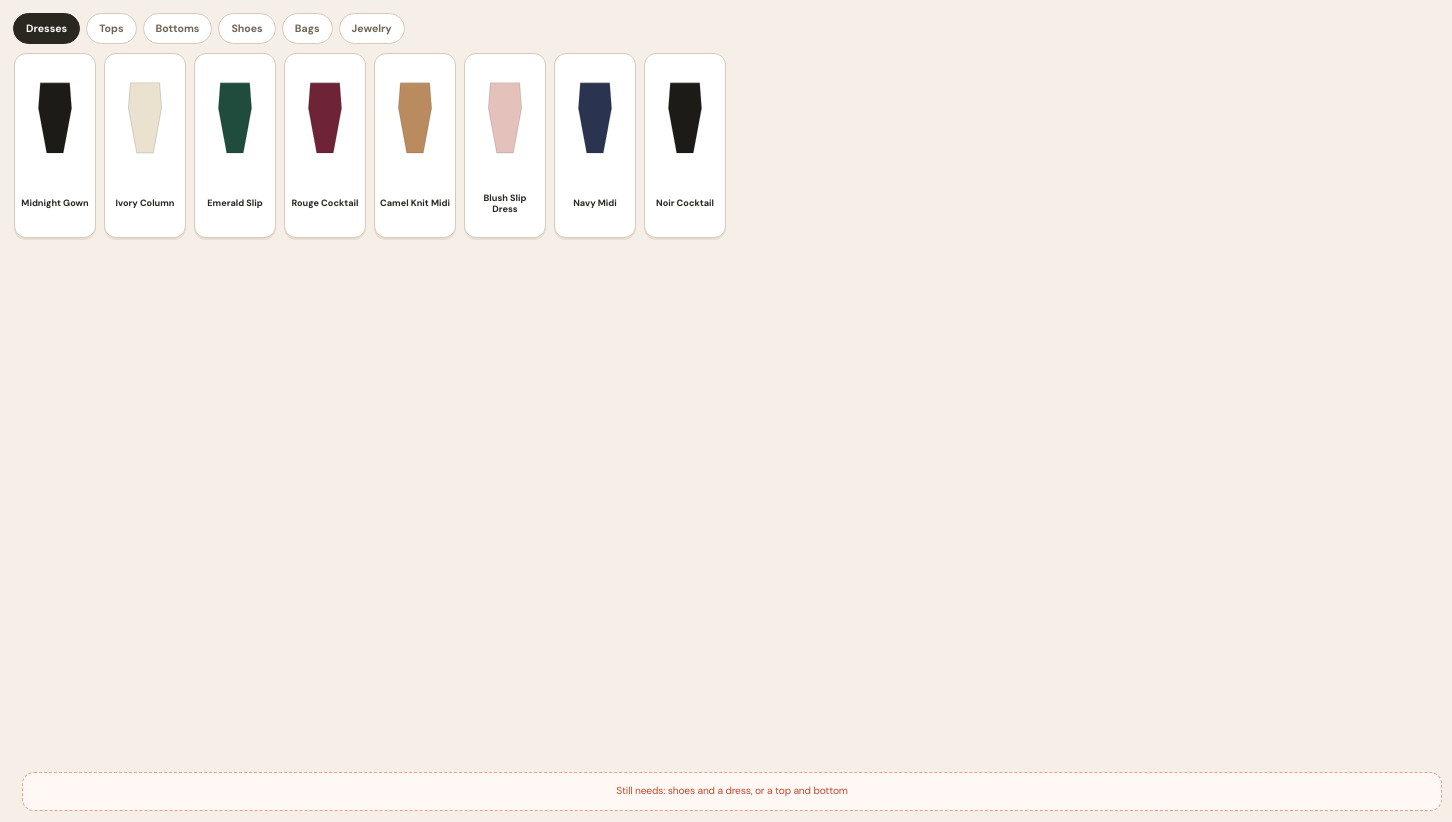
Test: Closet › switches slots on tab click
Click the button "Shoes": (247, 28) [218, 13, 276, 44]
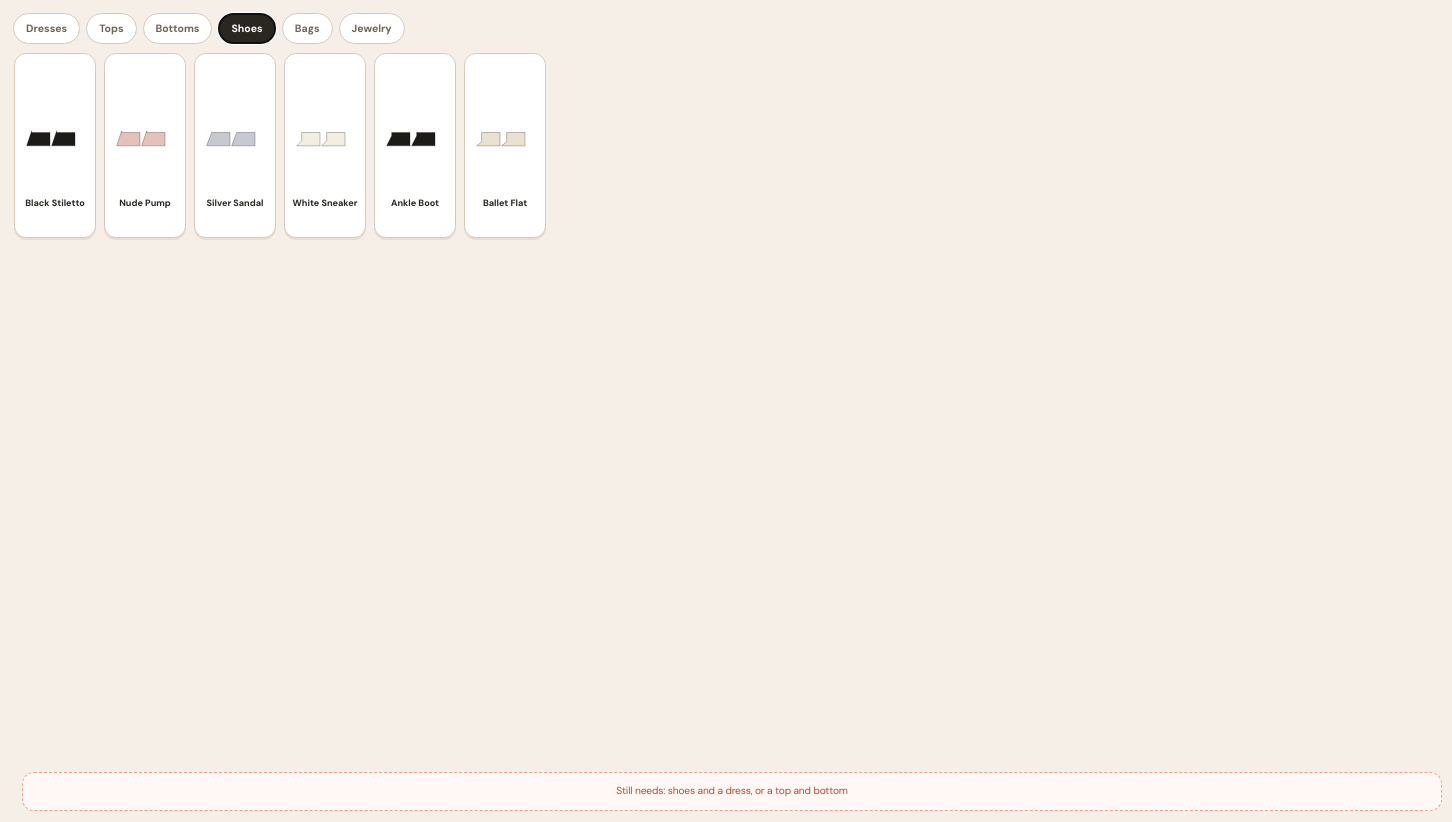
Now the text "Black Stiletto" is shown, box [25, 197, 85, 209]
